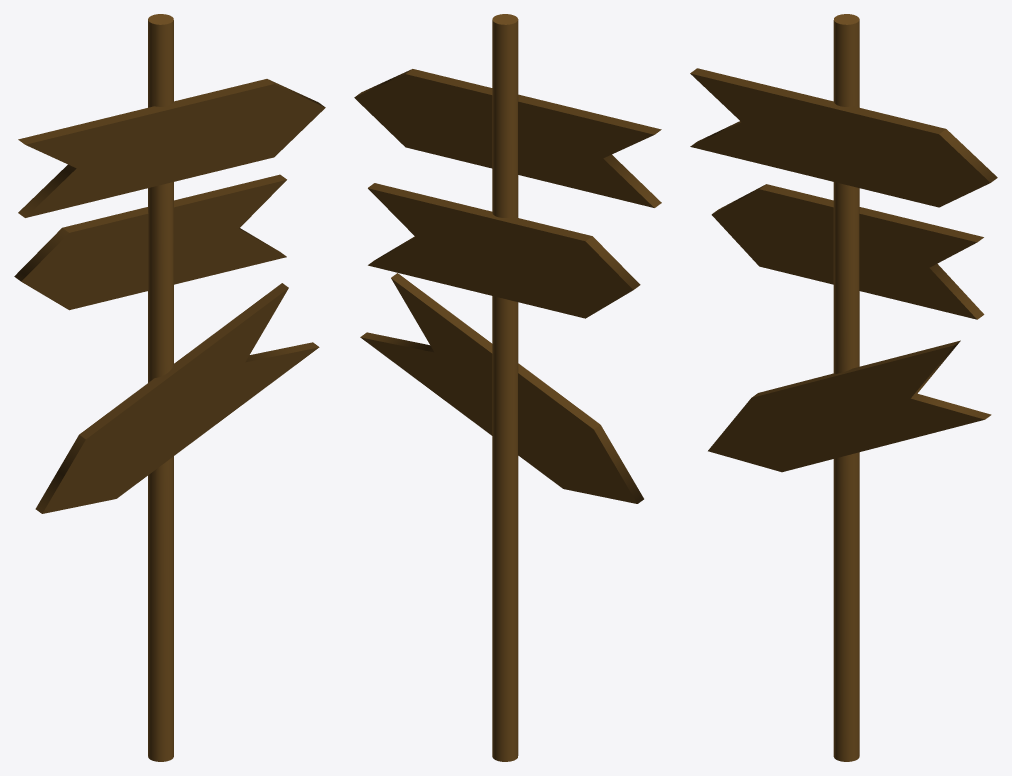
Rendered from prop_post_1.fbx.
The picture shows the model from 3 angles, left to right: view 1: azimuth 30°, elevation 25°; view 2: azimuth 150°, elevation 25°; view 3: azimuth 330°, elevation 25°; orthographic projection.
Parts seen in each view (by area): view 1: post_complete; view 2: post_complete; view 3: post_complete.
Boxes of the visible parts, x1,y1,x2,y2 form: post_complete: [14, 14, 325, 761]; post_complete: [354, 14, 661, 761]; post_complete: [690, 14, 997, 761].
Size of the model in its own units: 4.98 by 11.67 by 0.5655.
